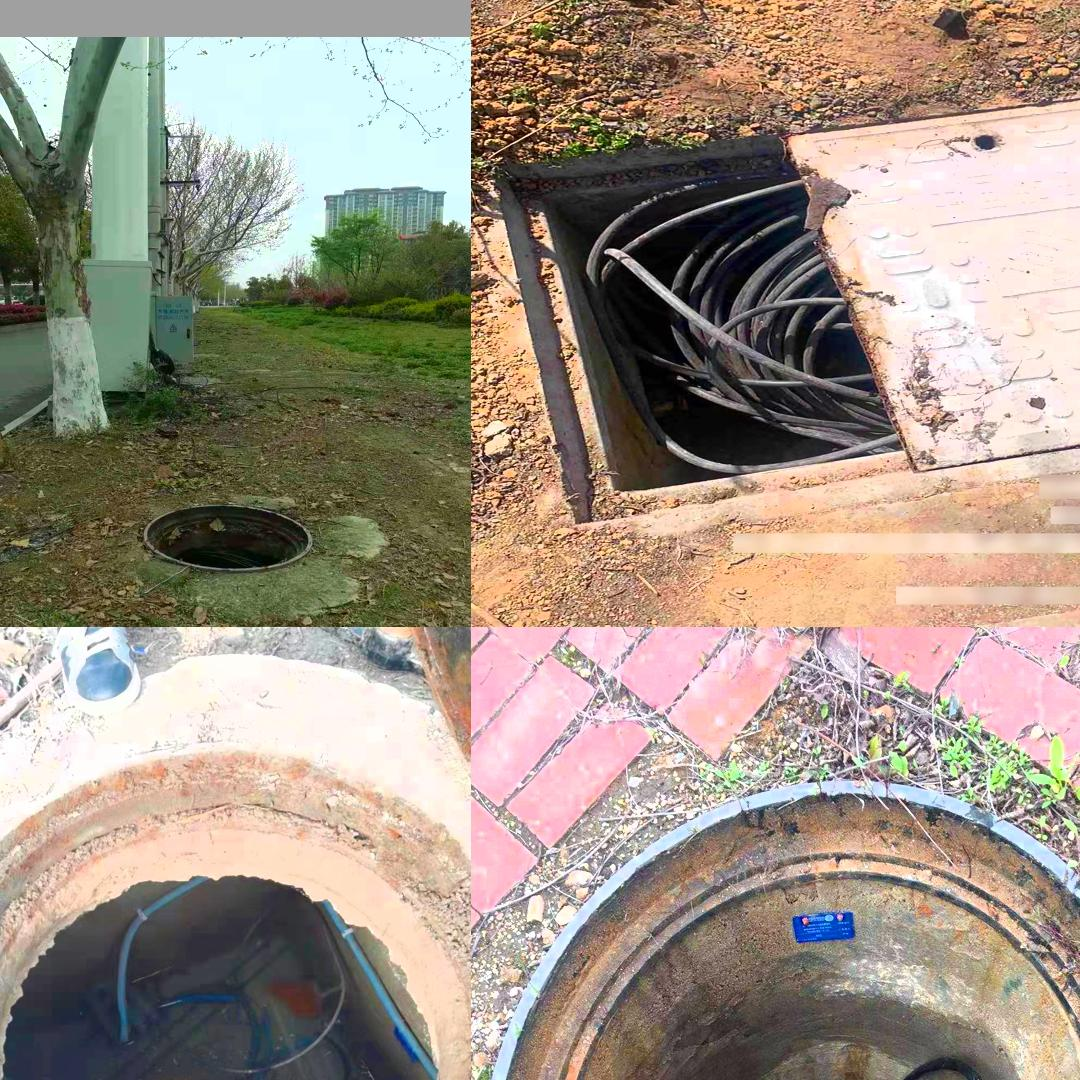lose: (491, 71, 1080, 529), (0, 690, 458, 1080), (485, 813, 1080, 1080), (143, 502, 313, 572)
